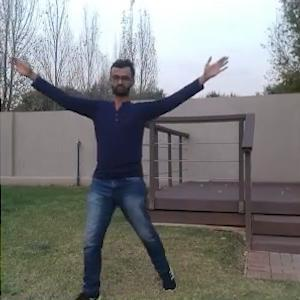takeoff: (4, 50, 238, 299)
